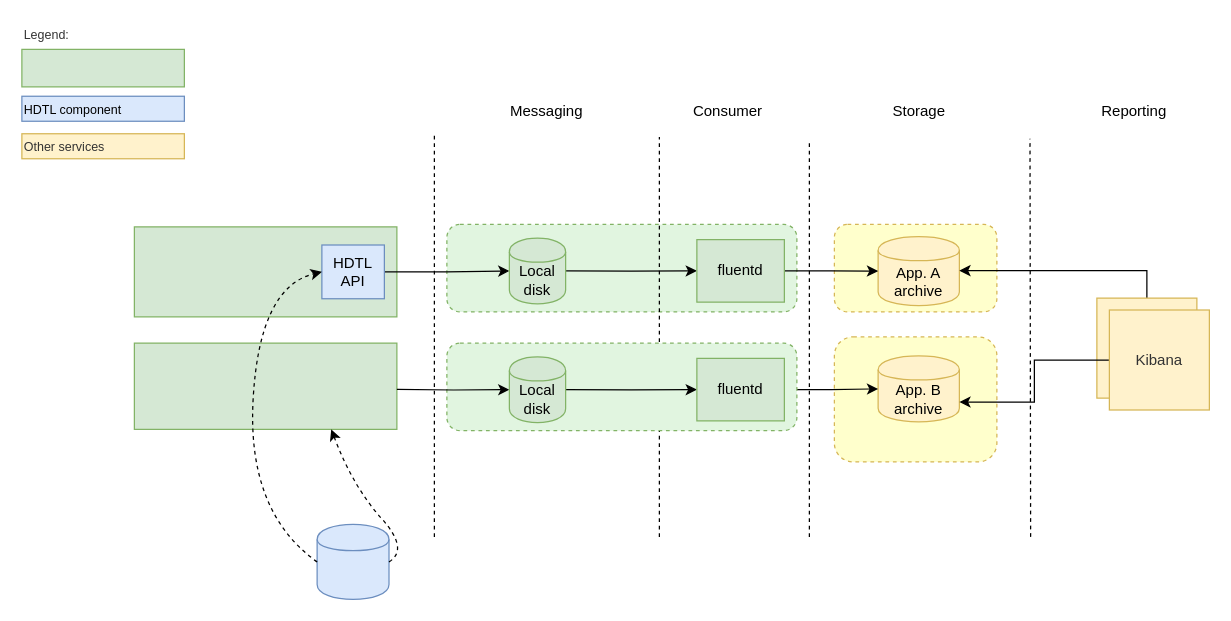
Image size: 1231x621. Some labels were removed from this diagram. Each missing label, with the box of its shape:
Application A: (133, 226, 397, 317)
Application B: (133, 342, 397, 429)
Client application: (21, 48, 184, 87)
ElasticSearch: (833, 336, 997, 462)
Schema registry: (316, 523, 389, 599)
